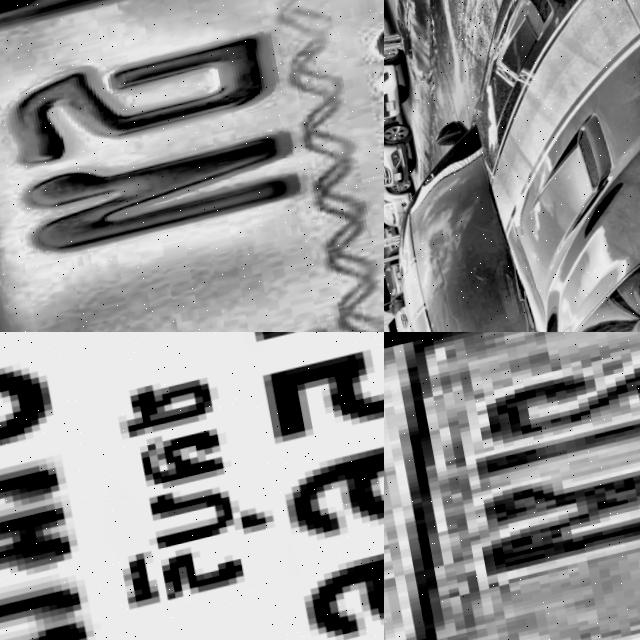license-plate: (0, 0, 384, 332), (0, 332, 384, 640), (384, 332, 640, 640), (384, 100, 396, 113), (389, 173, 402, 184)
